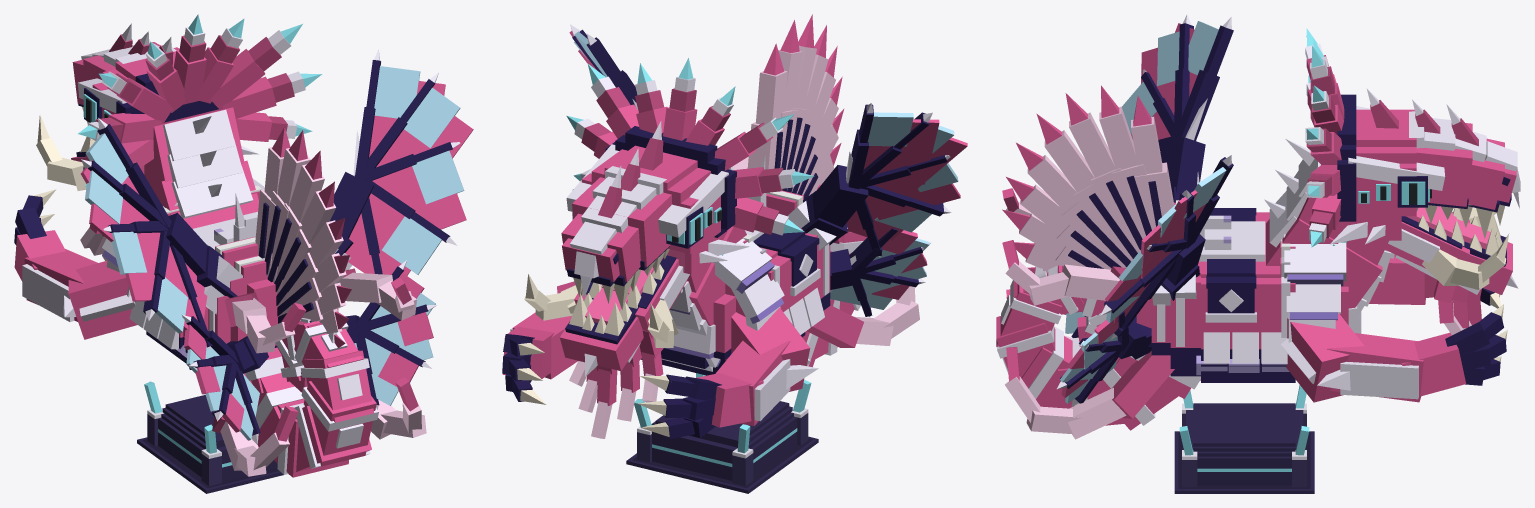
Rendered from SeahorseRocker12.obj.
3 renders of one model, left to right at view 1: azimuth 30°, elevation 25°; view 2: azimuth 150°, elevation 25°; view 3: azimuth 270°, elevation 25°, orthographic.
Visible parts, largest first — view 1: WingR, Head, WingL, Sail, Neck, ArmL, Body, Stand, Wing2R, Wing2L, TentL, TentR (+8 smaller); view 2: Head, WingL, Jaw, Body, ArmL, Sail, Stand, Wing2L, ArmR, TentL, Neck, WingR; view 3: Head, Body, Sail, ArmR, Stand, WingL, TentR, Jaw, WingR, Neck, Wing2R, ArmL (+6 smaller).
Part boxes in pixels (box(x1,y1,x2,y2)): WingR: box(329, 49, 473, 275); Head: box(72, 14, 322, 186); WingL: box(80, 118, 242, 349); Sail: box(255, 127, 351, 347); Neck: box(144, 107, 258, 228); ArmL: box(14, 189, 137, 339); Body: box(102, 178, 338, 363); Stand: box(137, 381, 283, 493); Wing2R: box(345, 260, 437, 409); Wing2L: box(182, 315, 268, 444); TentL: box(212, 292, 306, 476); TentR: box(336, 268, 426, 439); Head: box(561, 58, 814, 309); WingL: box(787, 103, 967, 257); Jaw: box(524, 255, 689, 438); Body: box(641, 155, 830, 375); ArmL: box(637, 307, 818, 438); Sail: box(747, 14, 844, 199); Stand: box(626, 373, 818, 493); Wing2L: box(830, 228, 931, 316); ArmR: box(502, 281, 577, 404); TentL: box(807, 231, 919, 347); Neck: box(669, 226, 746, 335); WingR: box(569, 24, 638, 110); Head: box(1305, 28, 1520, 247); Body: box(1136, 172, 1361, 382); Sail: box(1002, 85, 1174, 273); ArmR: box(1281, 304, 1507, 402); Stand: box(1174, 385, 1314, 493); WingL: box(1122, 14, 1233, 202); TentR: box(1002, 240, 1174, 439); Jaw: box(1385, 206, 1518, 357); WingR: box(1100, 155, 1233, 339); Neck: box(1264, 139, 1394, 315); Wing2R: box(1056, 311, 1151, 406); ArmL: box(1369, 254, 1500, 308).
Size of the model in its own units: 47.35 by 48.85 by 55.42.
1 material, 1 textured.
